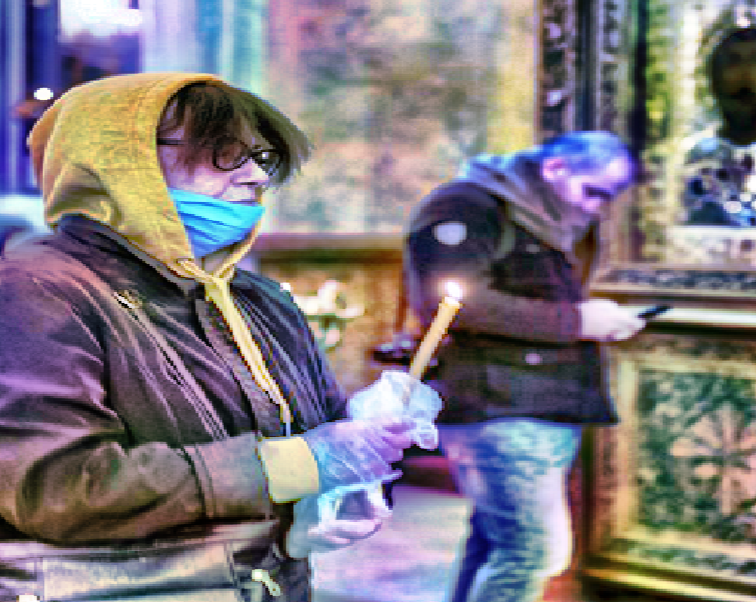mask_weared_incorrect: (35, 72, 287, 257)
